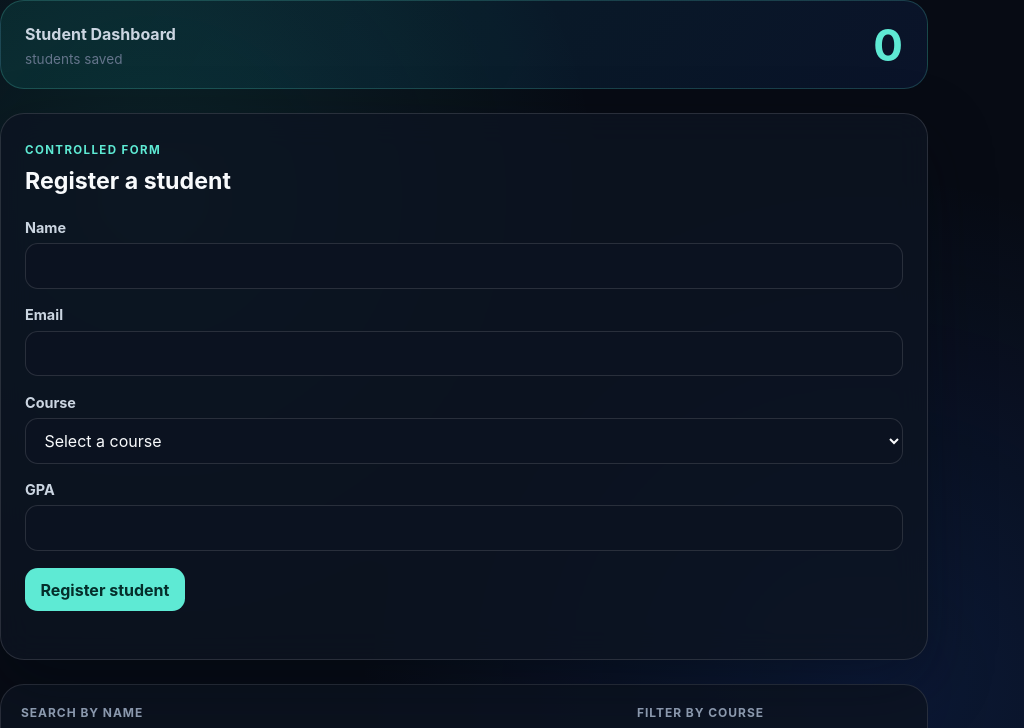
Scenario: StudentDashboard › shares a new student with the list and persists it
Type "Adham Ewaida" into the field labelled "Name". click: x=464, y=266
box: [25,243,903,289]
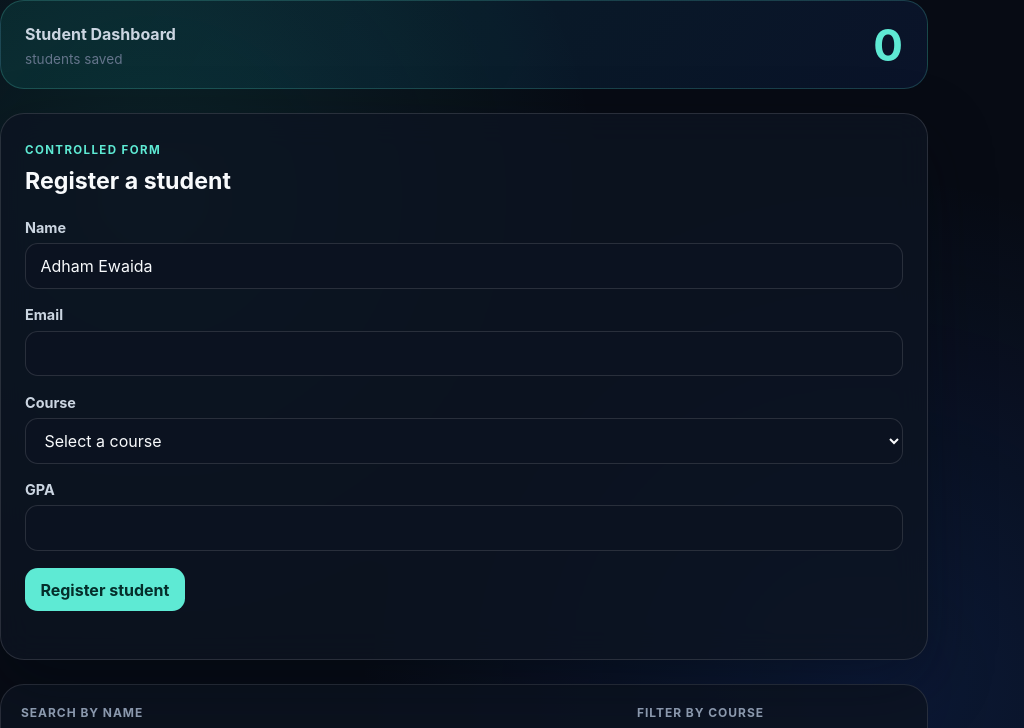
Type "adham@example.com" into the field labelled "Email". click: x=464, y=353
box: [25,330,903,376]
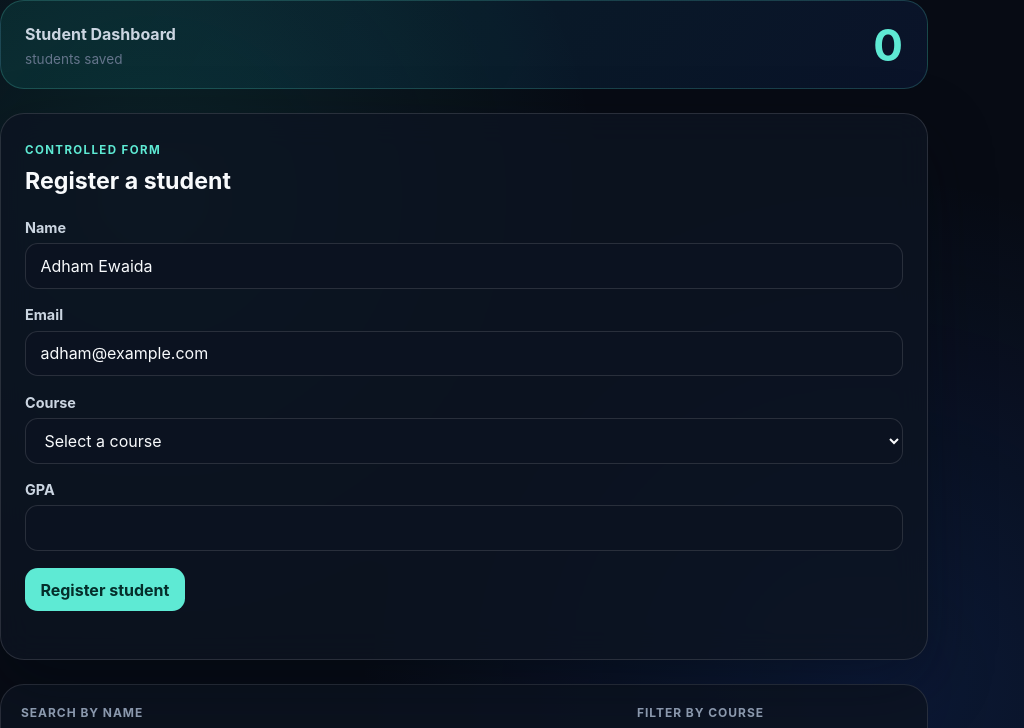
Select "Computer Science" in the dropdown labelled "Course". click: x=464, y=441
box: [25,418,903,464]
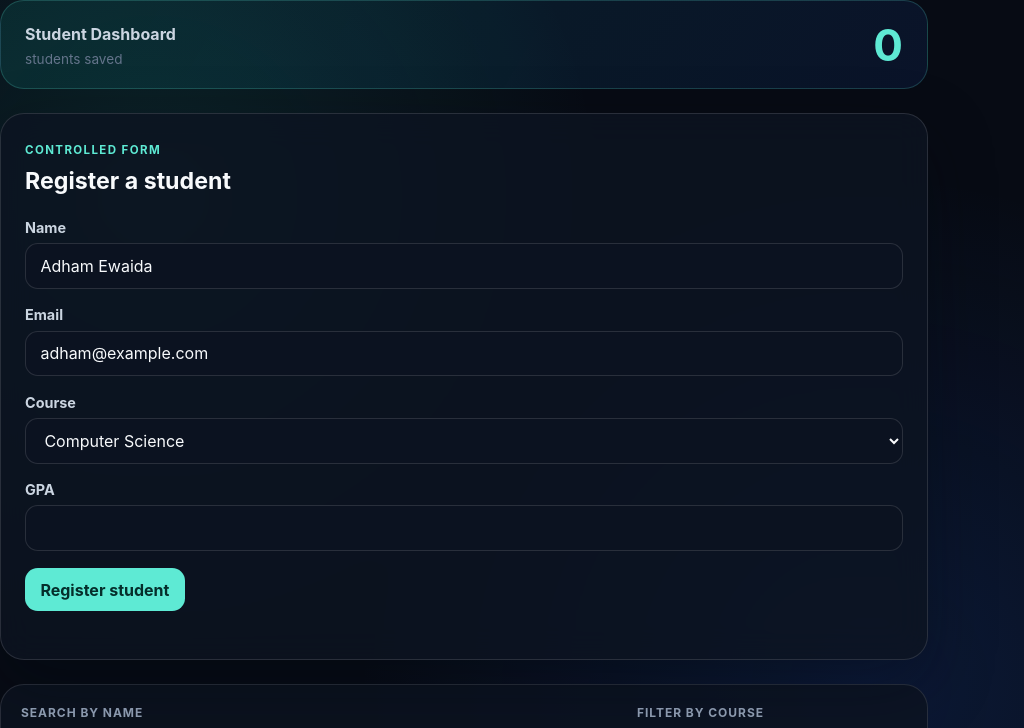
Type "3.75" into the number field labelled "GPA". click: x=464, y=528
box: [25,505,903,551]
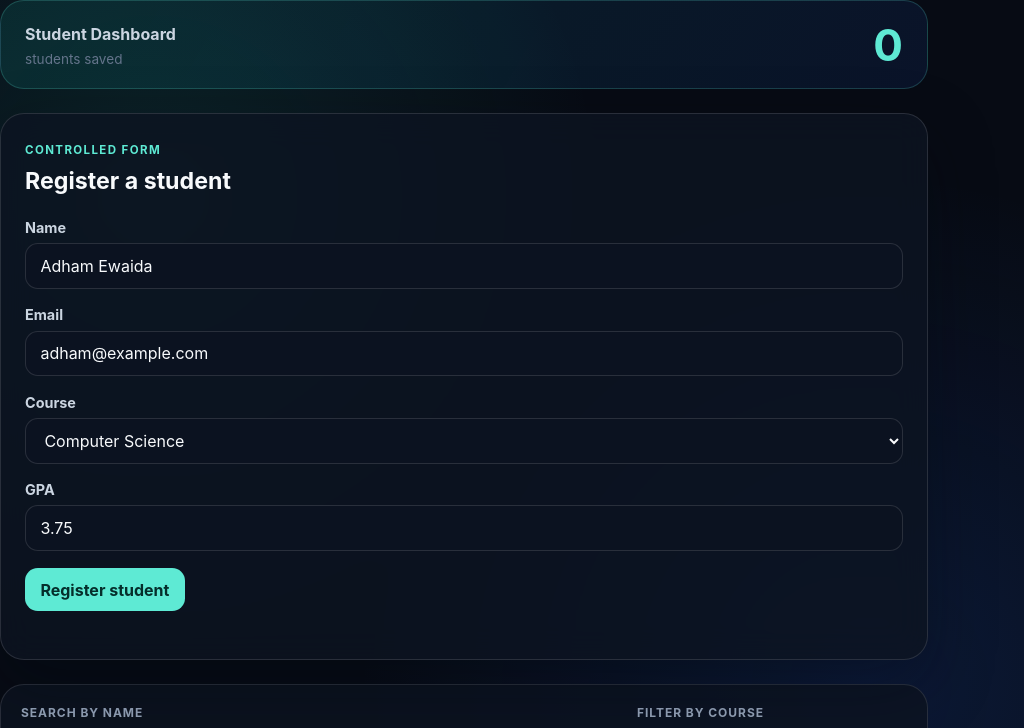
Click the button "Register student". click: x=105, y=590
box: [25,568,185,611]
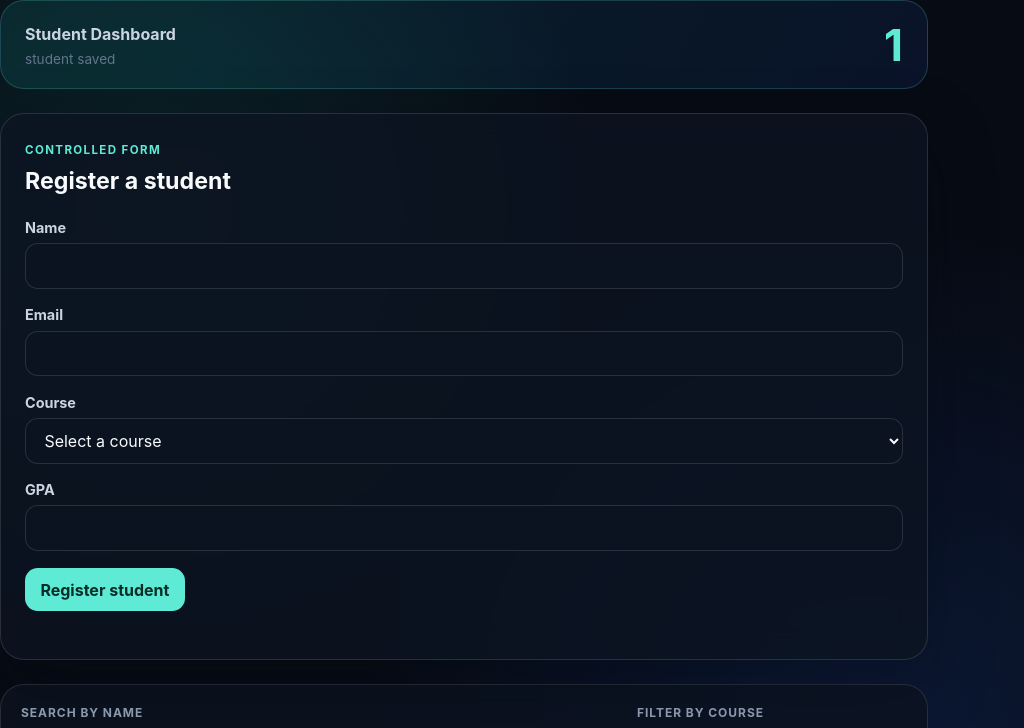
Result: the text named "Saved student count" reads "1" at [884,18,903,72]
